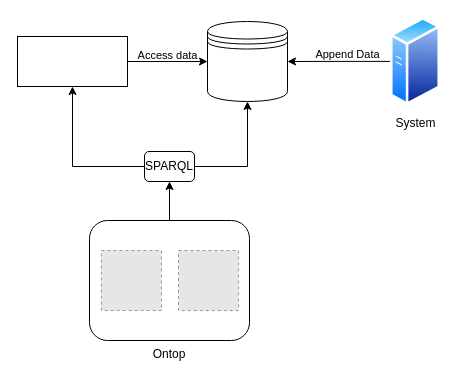
The diagram is 458 pixels wide and 379 high, and some of its shapes have lost their labels. Grey dashed boxes stand in for pictures. Here are the shapes that lost their labels. From the top down, the centre of each, then its label:
(72,61): RDF MetaData
(247,61): Time Series
